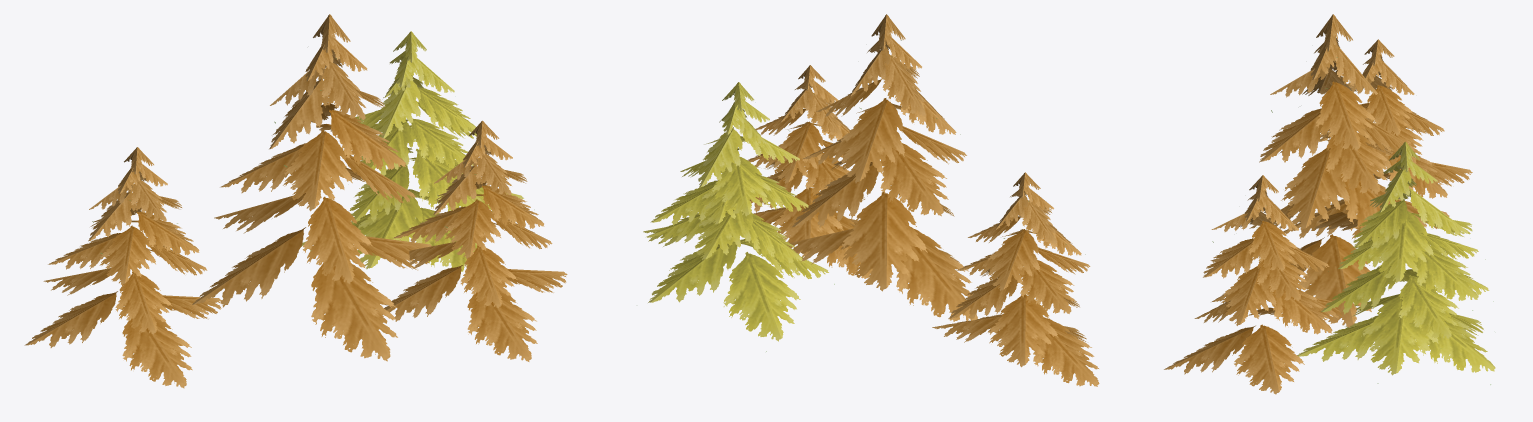
File: area_09_7.FBX
3 views of the same model, side by side, from view 1: azimuth 30°, elevation 25°; view 2: azimuth 150°, elevation 25°; view 3: azimuth 270°, elevation 25° (orthographic). The views are drawn at different scales.
Parts seen in each view (by area): view 1: area_09_7; view 2: area_09_7; view 3: area_09_7.
Boxes of the visible parts, <box> form: area_09_7: <box>24,14,567,388</box>; area_09_7: <box>643,14,1099,386</box>; area_09_7: <box>1164,14,1495,394</box>.
Size of the model in its own units: 10.59 by 6.44 by 6.74.
